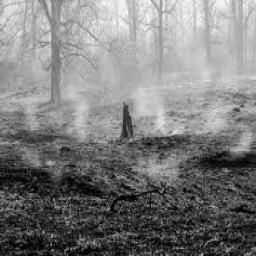Heavy smoke: (0, 1, 256, 180)
